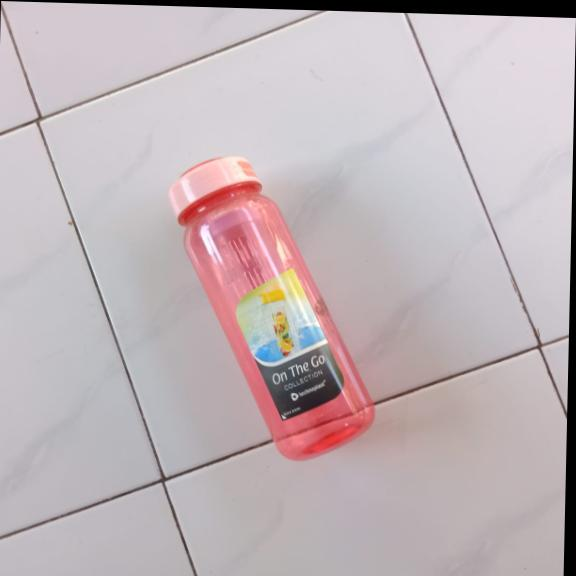Plastik: (159, 150, 383, 462)
